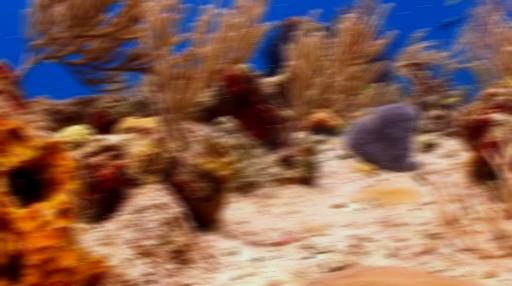Fish: (436, 16, 463, 29), (339, 122, 350, 132), (444, 97, 459, 104), (501, 78, 510, 89), (414, 139, 423, 148), (447, 0, 459, 5)
